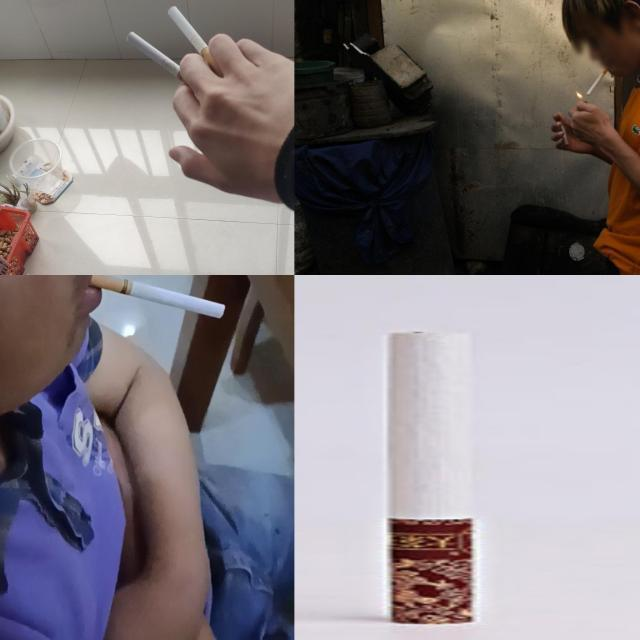smoking: (382, 328, 480, 624), (89, 275, 229, 319), (126, 32, 198, 92), (168, 5, 224, 77), (586, 68, 608, 95)
